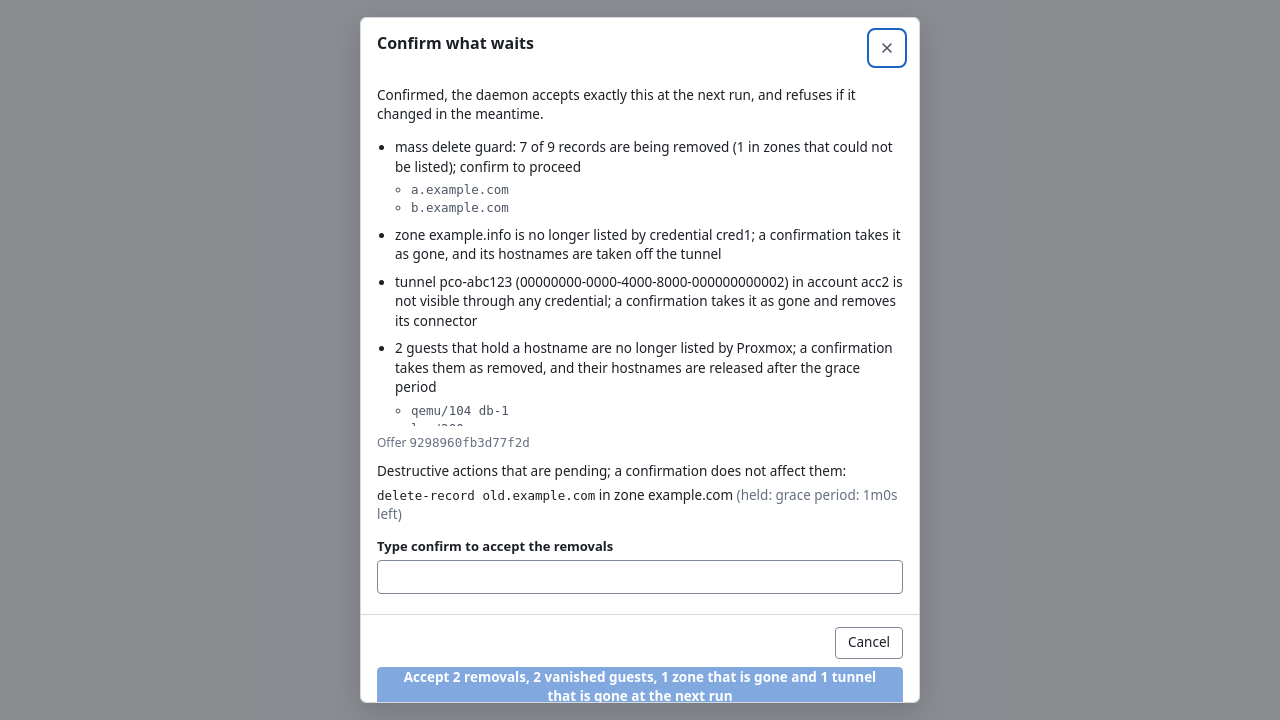
Test: the confirmation dialog › a refusal of the daemon: its sentence, and the new list to review
This screenshot has width=1280, height=720.
Type "confirm" into the field labelled "Type confirm to accept the removals" at (640, 577), box 377,560 -> 903,594
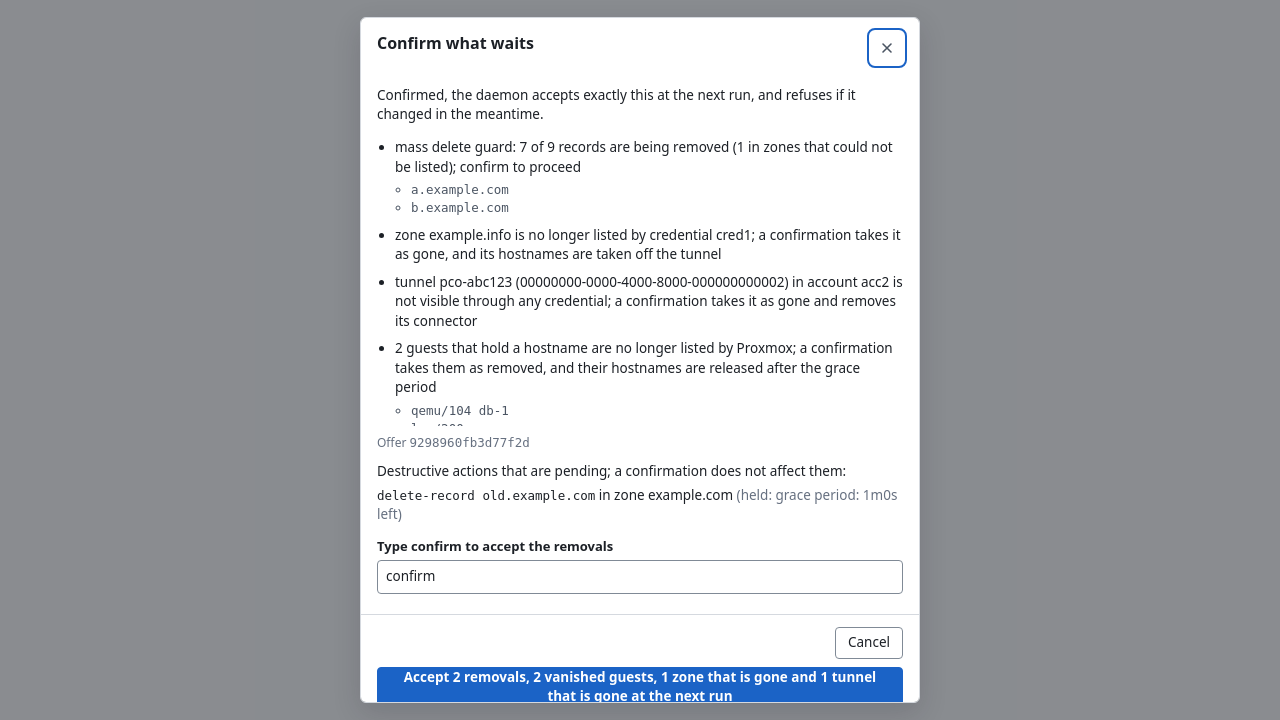
Click the button "Accept " at (640, 687), box 377,667 -> 903,708
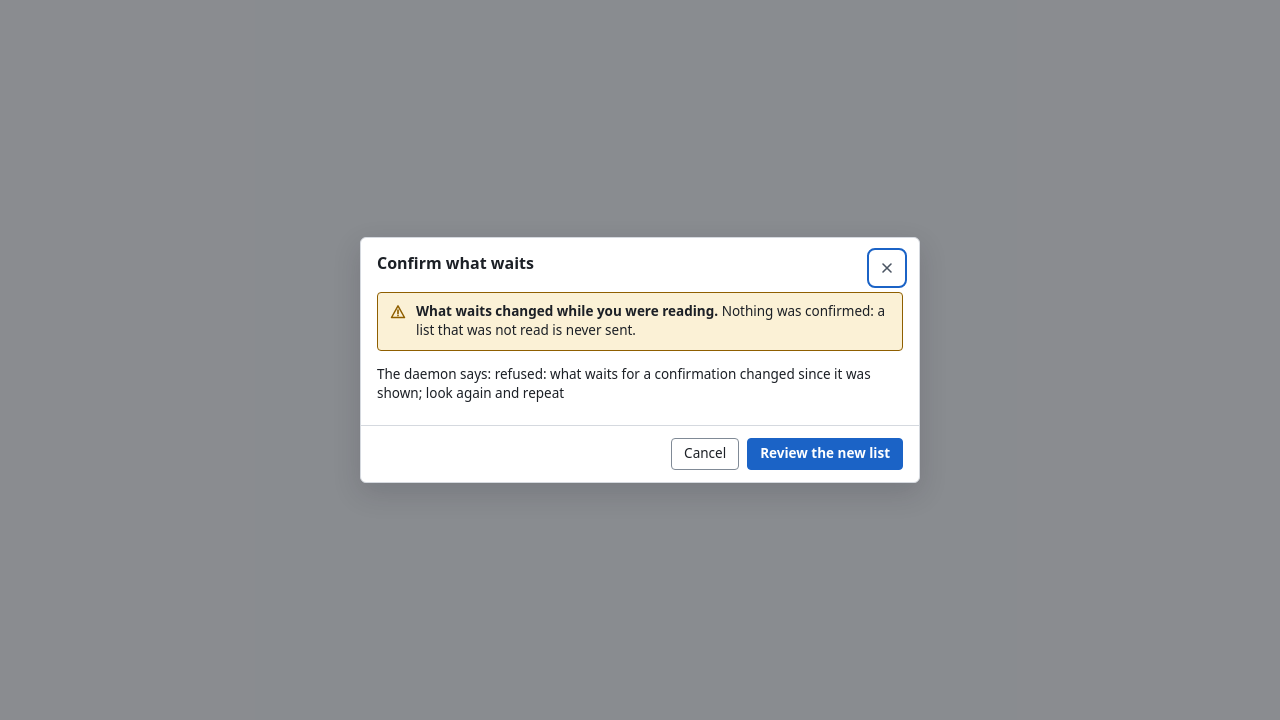
Now the text "What waits changed while you were reading." is shown, box 416,302 -> 718,320
Now the text "The daemon says:" shows "The daemon says: refused: what waits for a confirmation changed since it was shown; look again and repeat", box 377,364 -> 903,404
Now the button "Review the new list" is shown, box 747,438 -> 903,470
